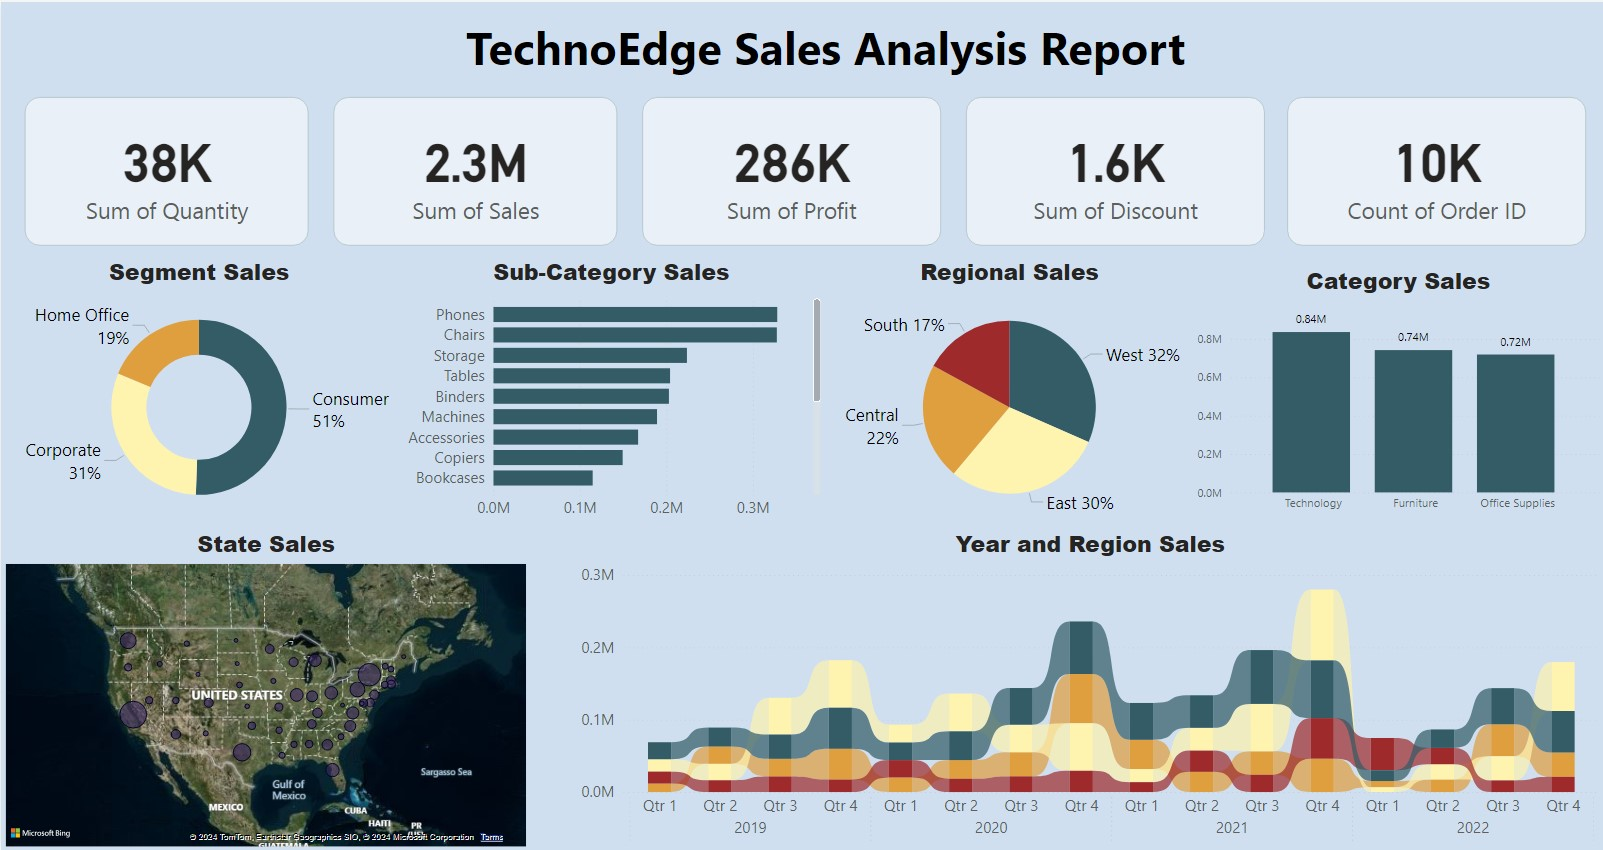

The page's visual inventory and layout, read from the dashboard file:
{"tool":"powerbi","page":{"name":"Page 1","canvas":[1700,900],"ordinal":0},"visuals":[{"type":"barChart","title":"Sub-Category Sales","fields":{"Category":["Monthly Sales Data 2.Sub-Category"],"Y":["Sum(Monthly Sales Data 2.Sales)"]},"box":[420.1,268.7,454,288.8],"z":0},{"type":"pieChart","title":"Regional Sales","fields":{"Y":["Sum(Monthly Sales Data 2.Sales)"],"Category":["Monthly Sales Data 2.Region"]},"box":[874.1,268.7,389.2,288.8],"z":1},{"type":"donutChart","title":"Segment Sales","fields":{"Category":["Monthly Sales Data 2.Segment"],"Y":["Sum(Monthly Sales Data 2.Sales)"]},"box":[0,268.7,420.1,288.8],"z":2},{"type":"columnChart","title":"Category Sales","fields":{"Category":["Monthly Sales Data 2.Category"],"Y":["Sum(Monthly Sales Data 2.Sales)"]},"box":[1263.3,278,437,271.8],"z":3},{"type":"ribbonChart","title":"Year and Region Sales","fields":{"Category":["Monthly Sales Data 2.Order Date.Variation.Date Hierarchy.Year","Monthly Sales Data 2.Order Date.Variation.Date Hierarchy.Quarter","Monthly Sales Data 2.Order Date.Variation.Date Hierarchy.Month","Monthly Sales Data 2.Order Date.Variation.Date Hierarchy.Day"],"Y":["Sum(Monthly Sales Data 2.Sales)"],"Series":["Monthly Sales Data 2.Region"]},"box":[610,557.5,1090.3,342.8],"z":4},{"type":"actionButton","box":[461.8,6.2,826.2,88],"z":5},{"type":"map","title":"State Sales","fields":{"Category":["Monthly Sales Data 2.State"],"Size":["Sum(Monthly Sales Data 2.Sales)"]},"box":[0,557.5,562.1,342.8],"z":6},{"type":"card","fields":{"Values":["Sum(Monthly Sales Data 2.Sales)"]},"box":[352.1,100.4,301.1,157.5],"z":7},{"type":"card","fields":{"Values":["Sum(Monthly Sales Data 2.Discount)"]},"box":[1022.4,100.4,316.6,157.5],"z":8},{"type":"card","fields":{"Values":["Sum(Monthly Sales Data 2.Quantity)"]},"box":[24.7,100.4,301.1,157.5],"z":9},{"type":"card","fields":{"Values":["Sum(Monthly Sales Data 2.Profit)"]},"box":[679.5,100.4,316.6,157.5],"z":10},{"type":"card","fields":{"Values":["CountNonNull(Monthly Sales Data 2.Order ID)"]},"box":[1363.6,100.4,316.6,157.5],"z":11}]}

Visuals, with their boxes in screenshot pixels (x1, y1, x2, y2), scaled from the page's 1700x900 canvas onto the 1603x850 screenshot:
"Sub-Category Sales" barChart: (396,254,824,527)
"Regional Sales" pieChart: (824,254,1191,527)
"Segment Sales" donutChart: (0,254,396,527)
"Category Sales" columnChart: (1191,263,1602,519)
"Year and Region Sales" ribbonChart: (575,527,1602,849)
actionButton: (435,6,1215,89)
"State Sales" map: (0,527,530,849)
card - Sum(Monthly Sales Data 2.Sales): (332,95,616,244)
card - Sum(Monthly Sales Data 2.Discount): (964,95,1263,244)
card - Sum(Monthly Sales Data 2.Quantity): (23,95,307,244)
card - Sum(Monthly Sales Data 2.Profit): (641,95,939,244)
card - CountNonNull(Monthly Sales Data 2.Order ID): (1286,95,1584,244)
